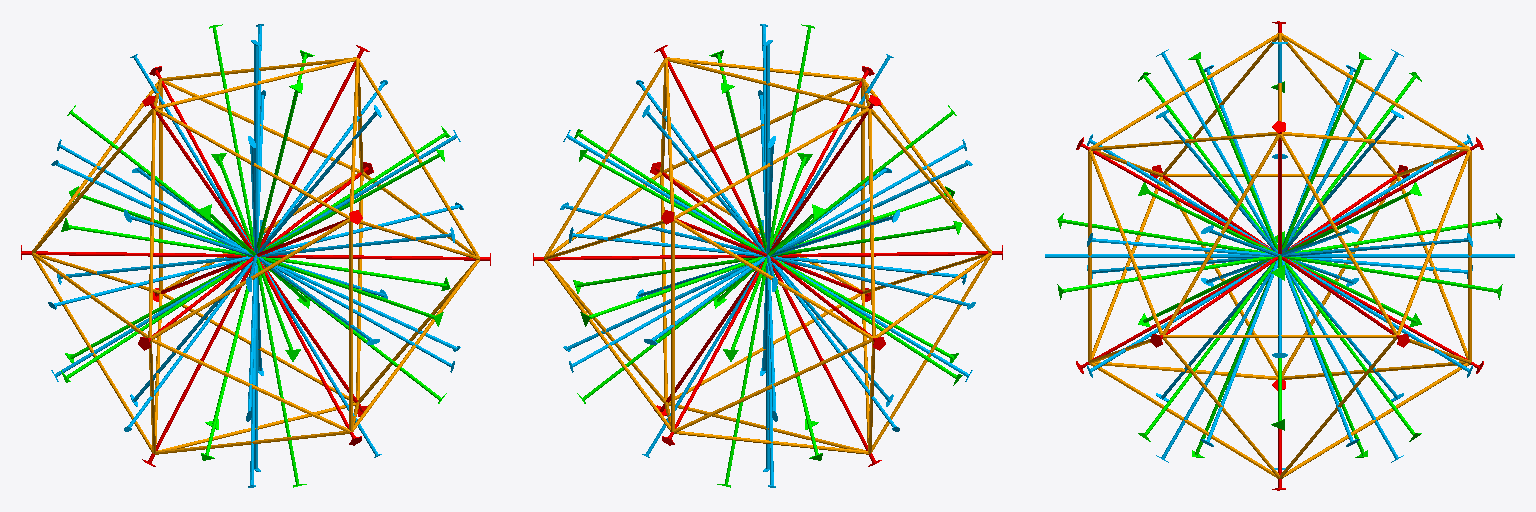
File: 2PLV.obj
3 views of the same model, side by side, from view 1: azimuth 30°, elevation 25°; view 2: azimuth 150°, elevation 25°; view 3: azimuth 270°, elevation 25° (orthographic).
Size of the model in its own units: 387 by 387 by 387.